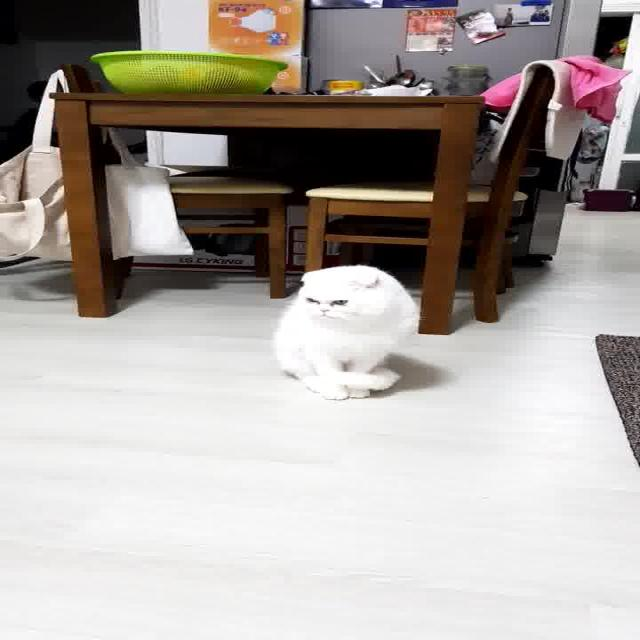cat: (250, 260, 436, 417)
